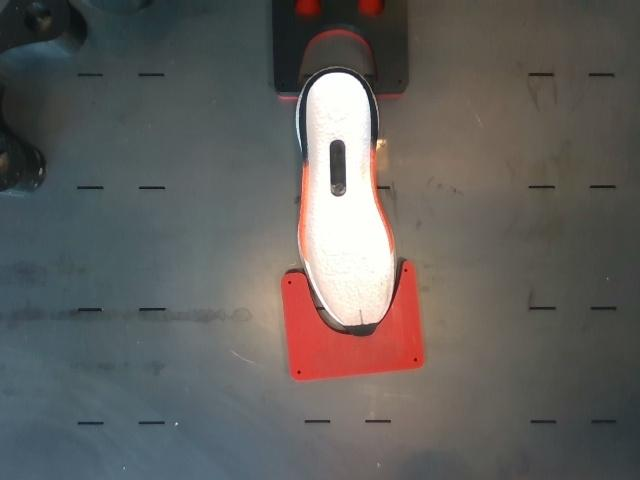shoes: (306, 73, 392, 336)
